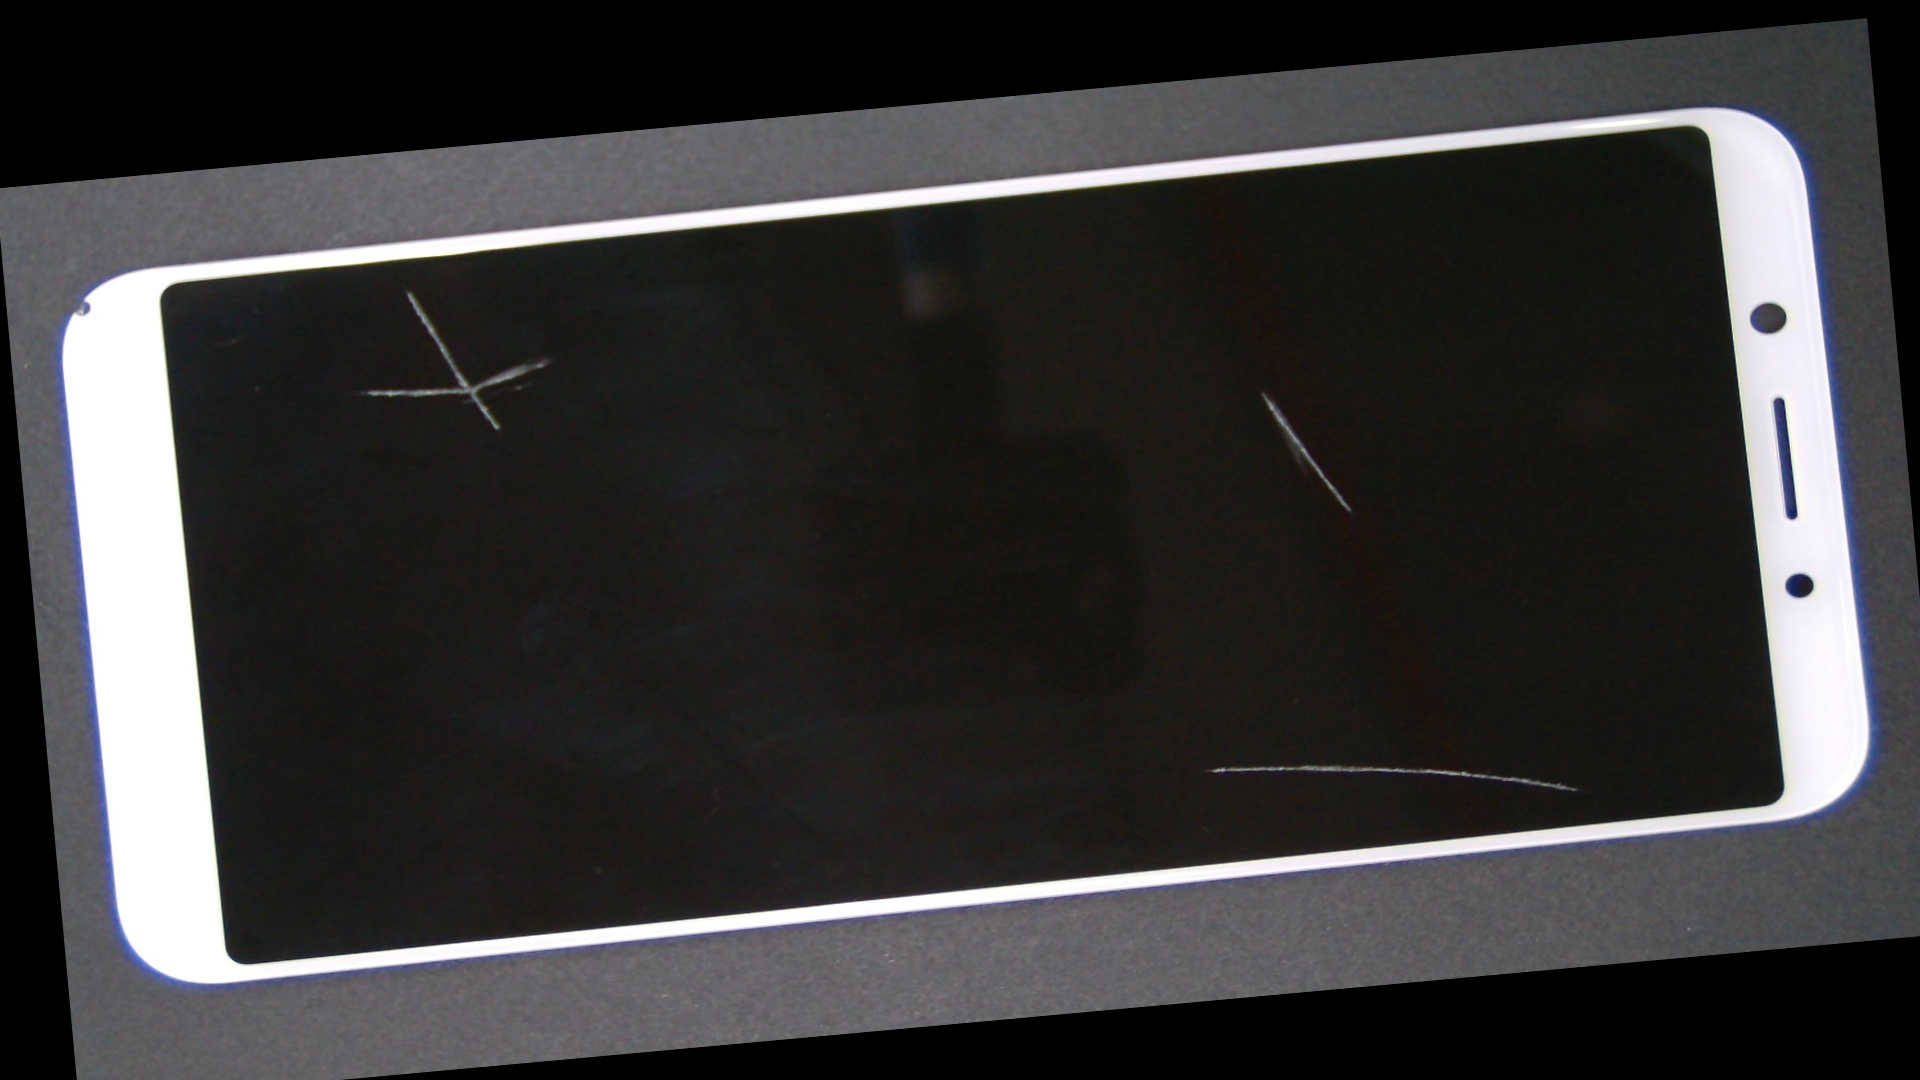oil: (609, 371, 1825, 1051), (630, 177, 1896, 607), (203, 203, 615, 380)
